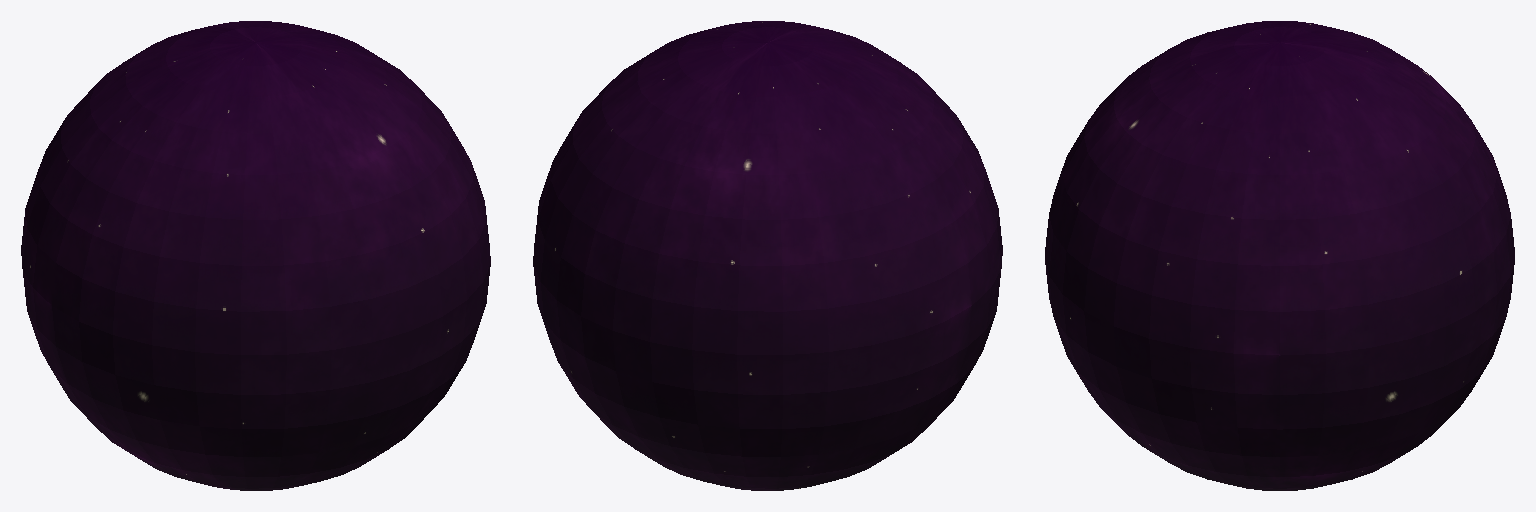
3 views of the same model, side by side, from view 1: azimuth 30°, elevation 25°; view 2: azimuth 150°, elevation 25°; view 3: azimuth 270°, elevation 25° (orthographic).
Visible parts, largest first — view 1: 球; view 2: 球; view 3: 球.
Part boxes in pixels (x1,y1,x2,y2): 球: (21, 21, 490, 490); 球: (533, 21, 1002, 490); 球: (1045, 21, 1514, 490).
Bounding box in the file's own units: 200 × 200 × 200.
Materials: 1 (1 with a texture image).